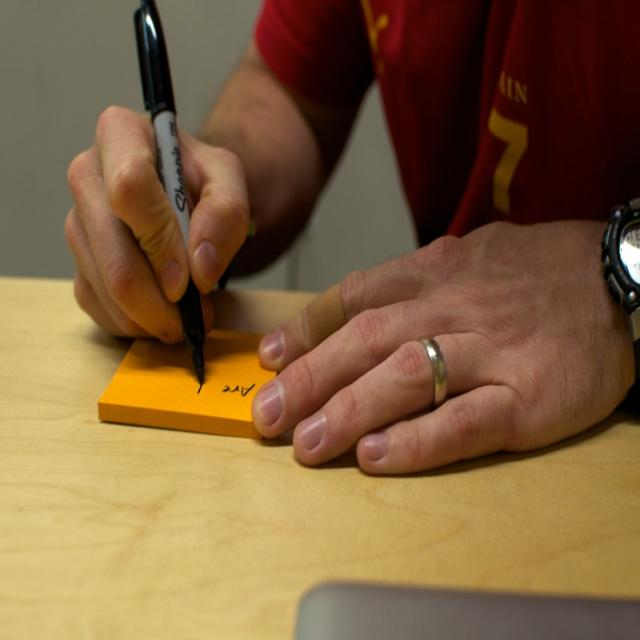pen: (138, 2, 206, 382)
